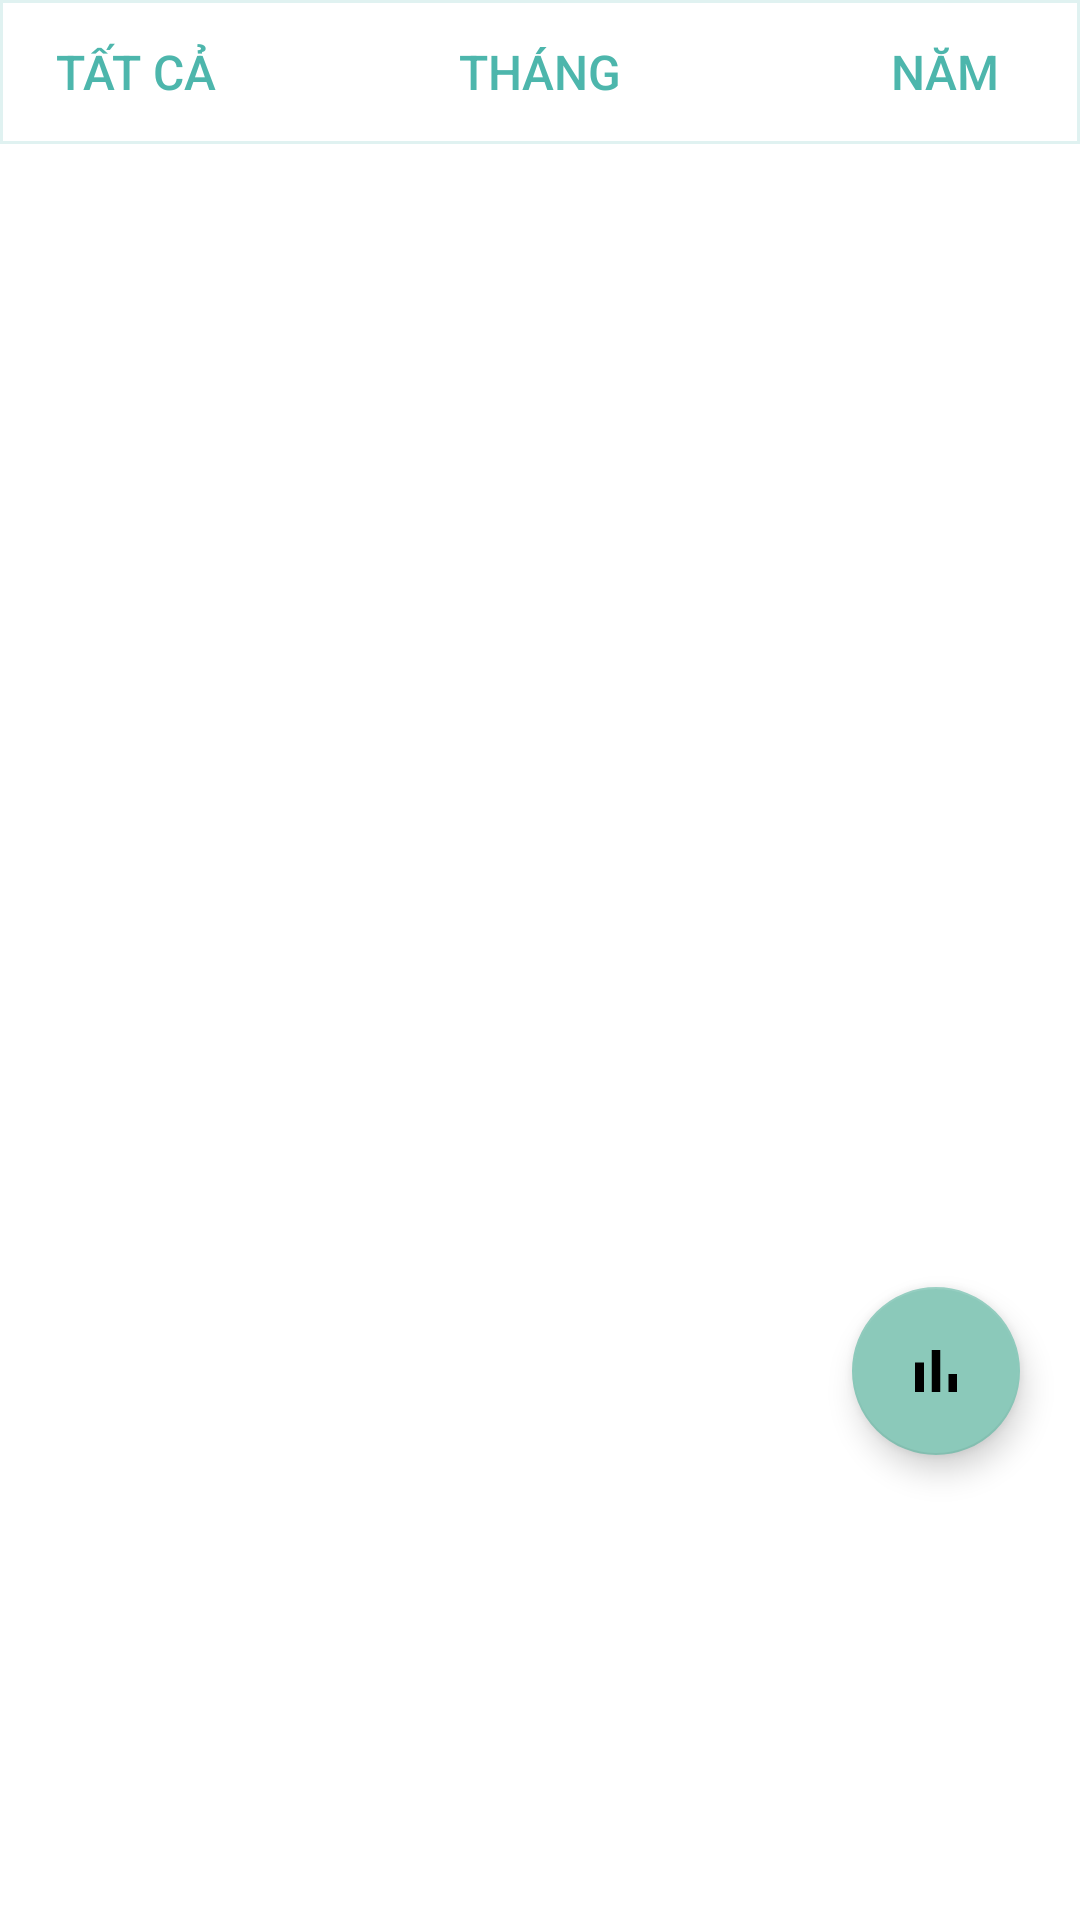

Icon bounding boxes for this 1080*1920 phone screenshot, format {"left": x1, "top": y1, "right": x2, "bottom": y2}:
bieu do: {"left": 852, "top": 1287, "right": 1020, "bottom": 1455}
